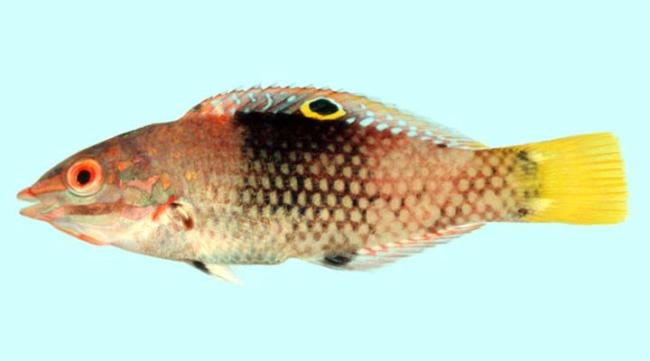fish: (16, 82, 630, 284)
